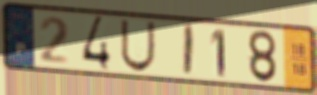1: (209, 28, 227, 78)
2: (38, 15, 72, 66)
4: (78, 14, 115, 73)
8: (246, 28, 278, 84)
I: (181, 22, 197, 78)
U: (119, 18, 157, 74)
